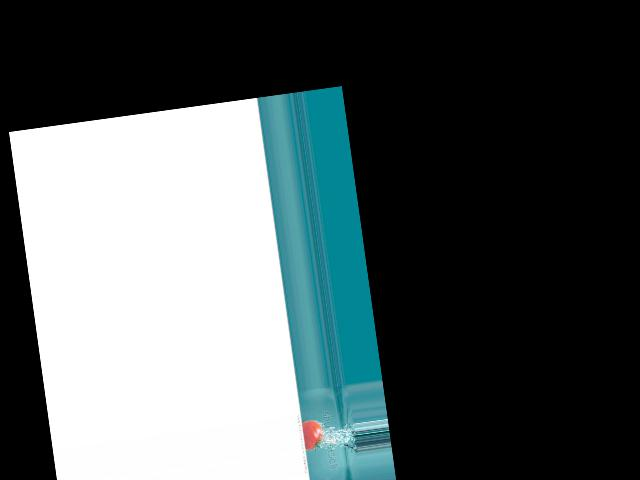tomato: (301, 419, 324, 451)
